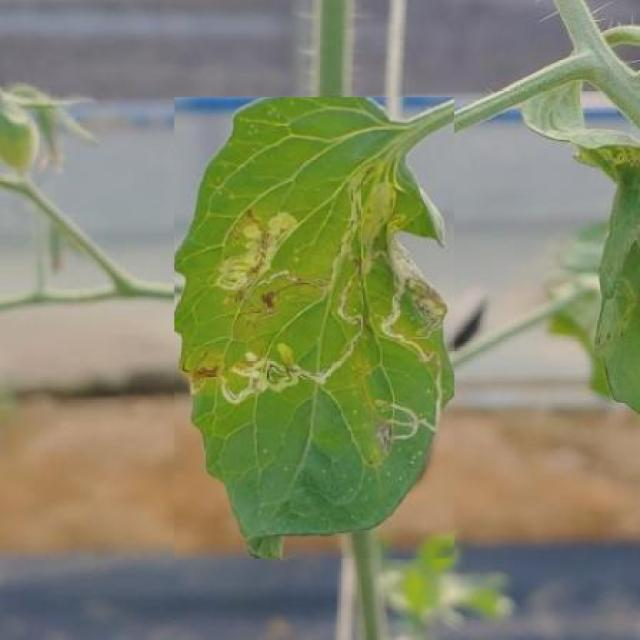Leaf Miner: (175, 97, 455, 559)
